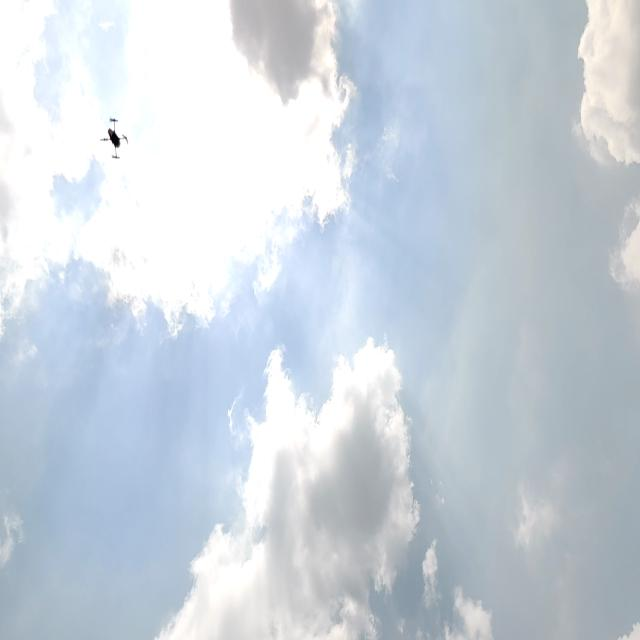drone: (91, 106, 132, 162)
